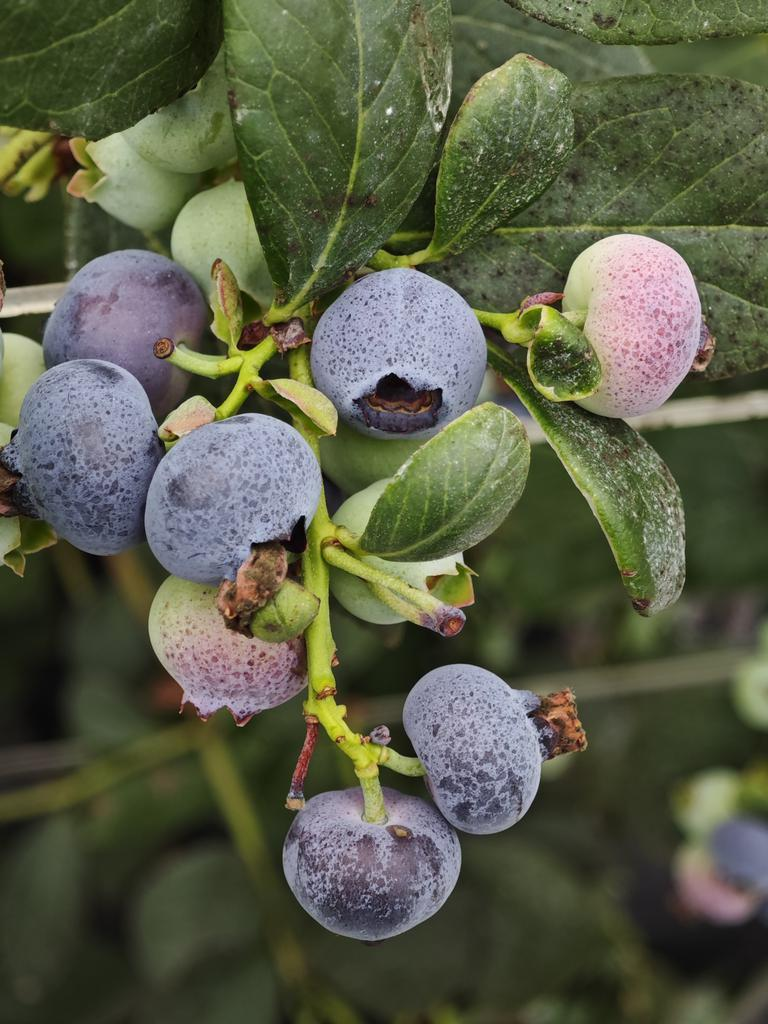RipeBlueBerry: (400, 660, 583, 833), (283, 789, 466, 946), (149, 414, 311, 589), (317, 269, 489, 433), (16, 367, 154, 561)
Semi-RipeBlueBerry: (561, 233, 709, 411)
